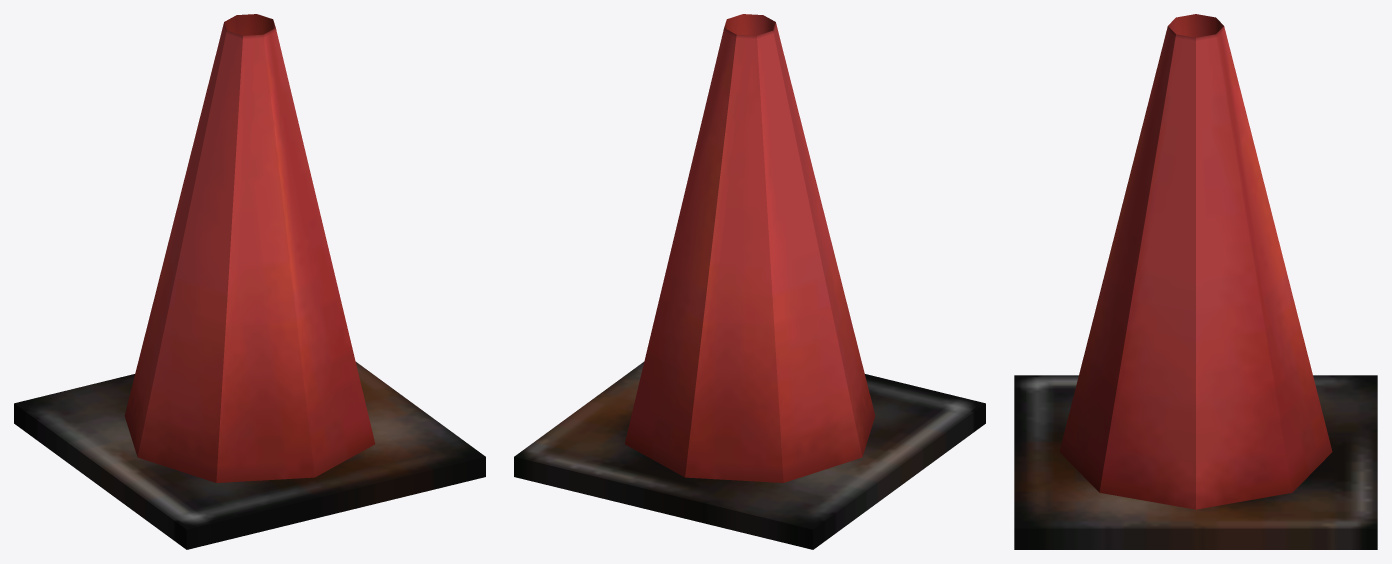
File: obcone.fbx
The picture shows the model from 3 angles, left to right: view 1: azimuth 30°, elevation 25°; view 2: azimuth 150°, elevation 25°; view 3: azimuth 270°, elevation 25°; orthographic projection. The views are drawn at different scales.
Visible parts, largest first — view 1: mesh_0, mesh_1; view 2: mesh_0, mesh_1; view 3: mesh_0, mesh_1.
Part boxes in pixels (x1=…): mesh_0: x1=124, y1=14, x2=375, y2=482; mesh_1: x1=14, y1=362, x2=485, y2=549; mesh_0: x1=624, y1=14, x2=875, y2=482; mesh_1: x1=514, y1=362, x2=985, y2=549; mesh_0: x1=1059, y1=14, x2=1332, y2=509; mesh_1: x1=1014, y1=375, x2=1377, y2=549.
Size of the model in its own units: 35.15 by 47.77 by 35.15.
1 material, 1 textured.
